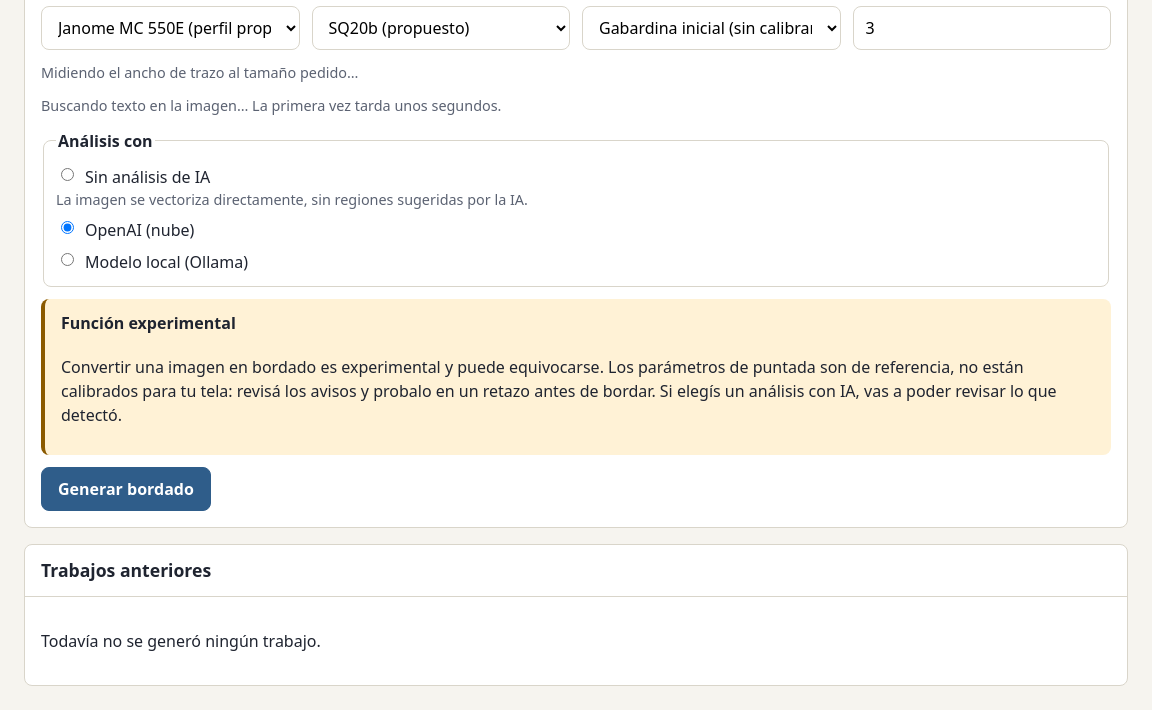
Test: recorrido principal (cliente SIMULADO) › informa un fallo con etapa y causa, y no ofrece descargas
Earlier steps of the test are not shown.
(page scrolled)
Click the button "Generar bordado" at point(126, 490), box x1=41 y1=468 x2=211 y2=512
Wait 8000 ms
(page scrolled)
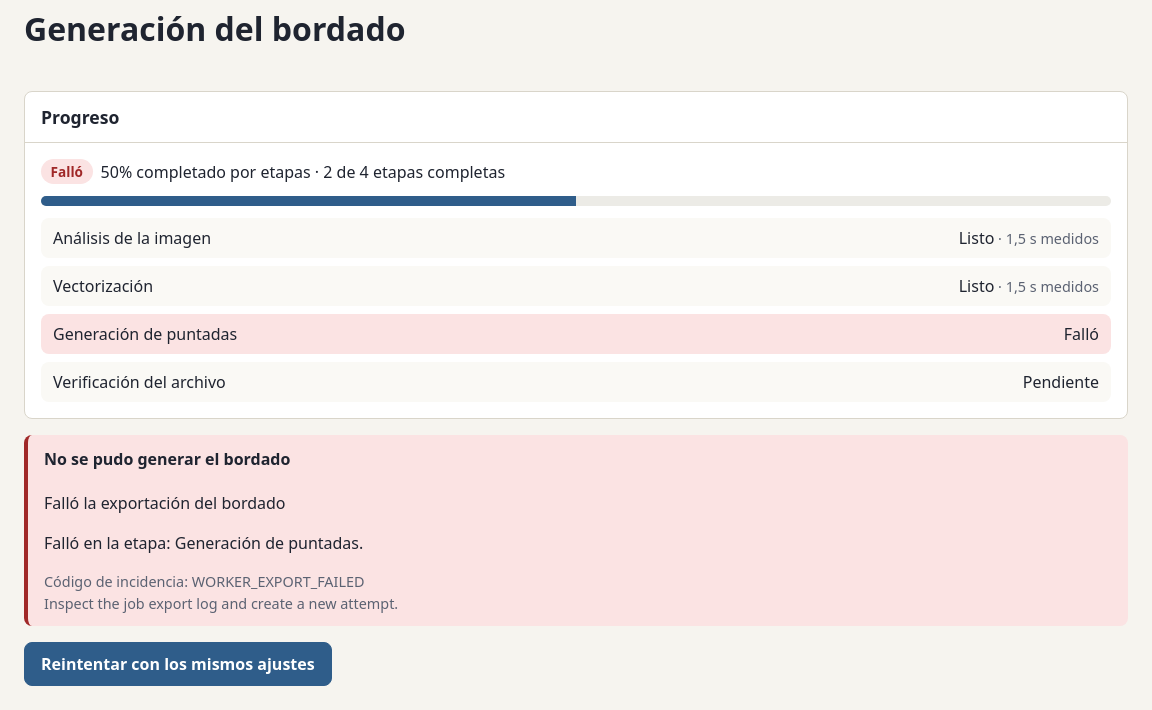
Expected: the heading "Generación del bordado" is shown, x1=24 y1=7 x2=406 y2=50
Expected: the text "No se pudo generar el bordado" is shown, x1=44 y1=448 x2=290 y2=470
Expected: the text "Falló la exportación del bordado" is shown, x1=44 y1=492 x2=286 y2=514
